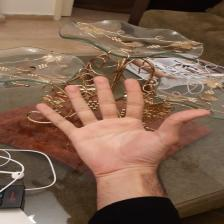five: (34, 76, 213, 169)
